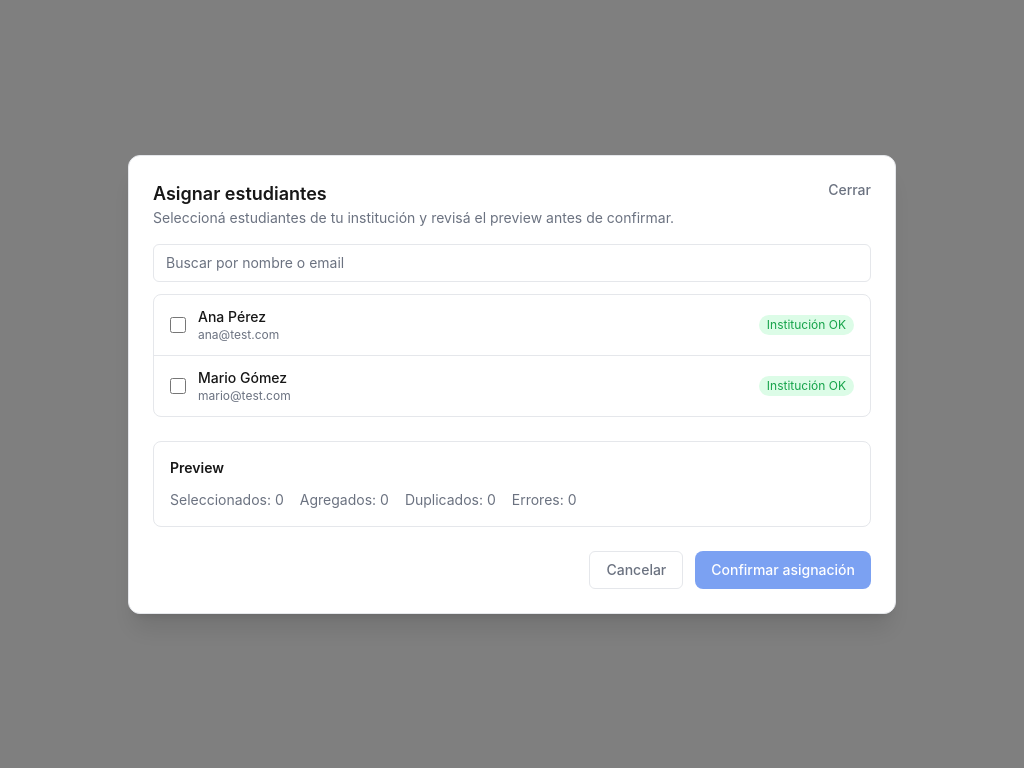
Test: AsignarEstudiantesModal › debería mostrar preview de agregados/duplicados
expect the text "Ana Pérez" is shown: met, box [198,308,266,324]
Click the checkbox labelled "Ana Pérez ana@test.com" at (178, 324), box [170,316,186,332]
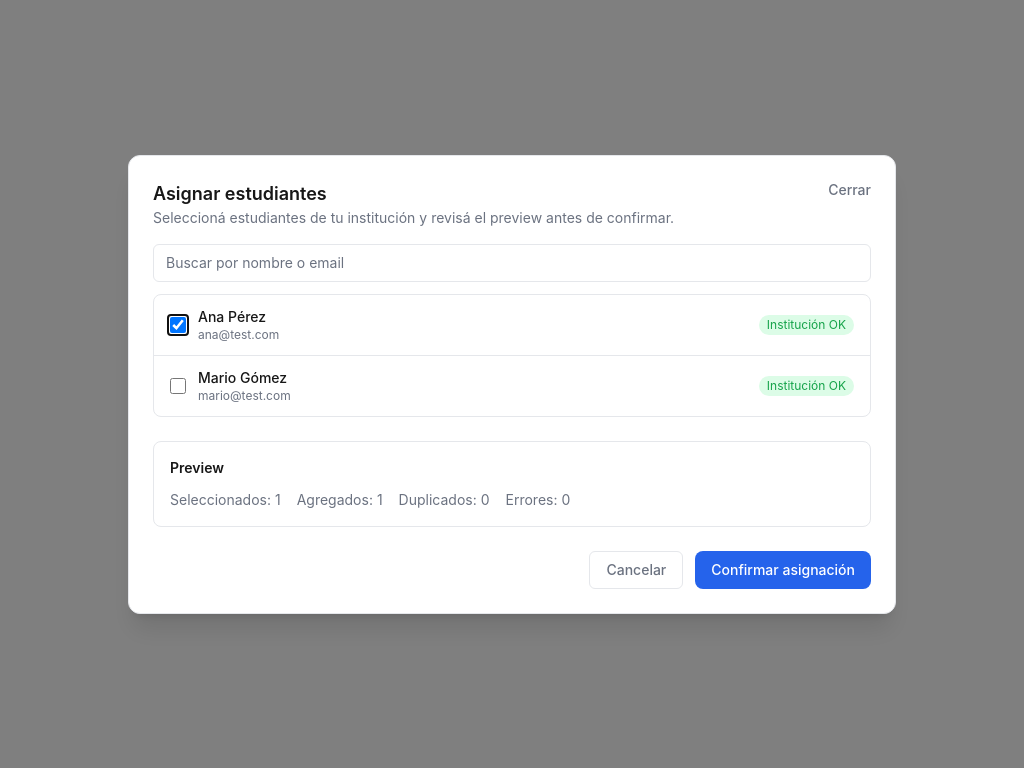
Click the checkbox labelled "Mario Gómez mario@test.com" at (178, 386), box [170,378,186,394]
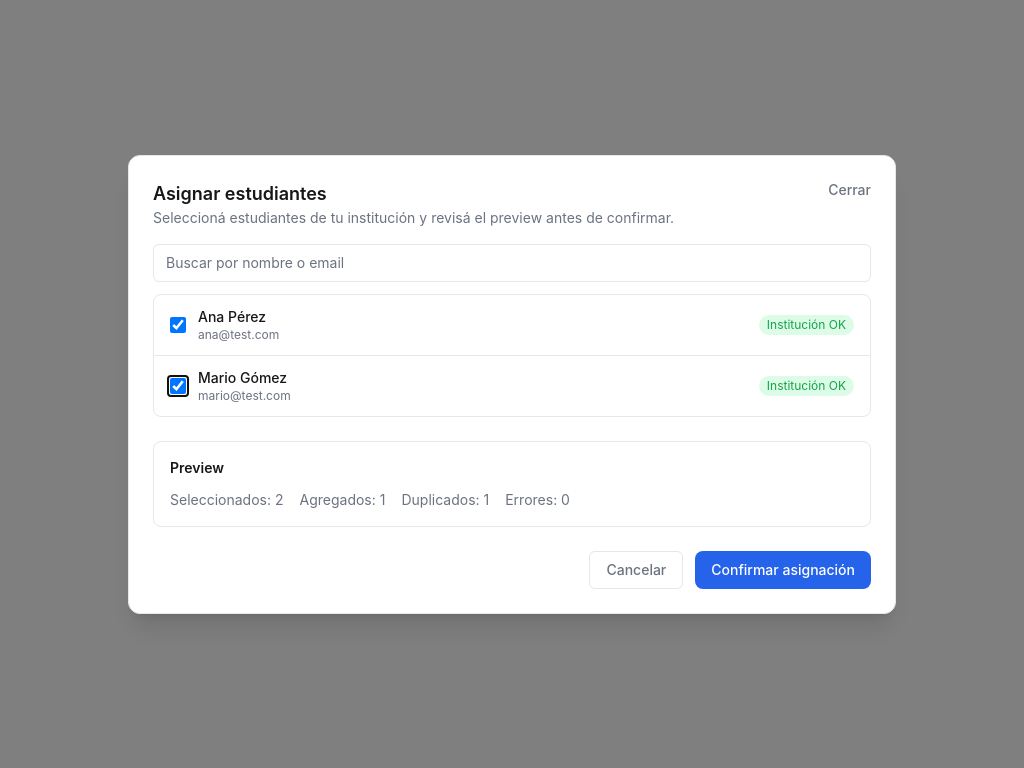
expect the text "Agregados: 1" is shown: met, box [300,490,385,510]
expect the text "Duplicados: 1" is shown: met, box [401,490,489,510]
